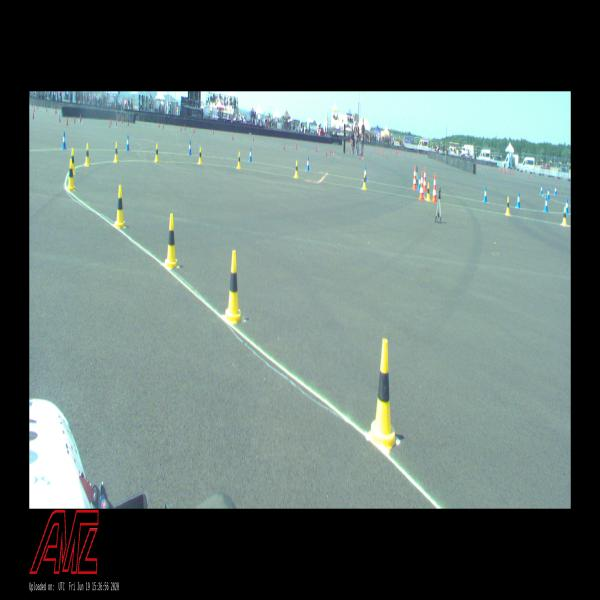blue_cone: (516, 192, 521, 208), (484, 186, 488, 203), (544, 196, 548, 212), (62, 132, 66, 148), (565, 199, 569, 214), (188, 141, 192, 155), (126, 136, 130, 150), (306, 156, 309, 171), (249, 148, 252, 162), (418, 176, 421, 190), (547, 188, 550, 199), (554, 185, 557, 196), (364, 167, 366, 180), (540, 184, 542, 194)
large_orange_cone: (431, 173, 438, 203), (418, 171, 424, 200), (412, 166, 417, 190), (423, 167, 427, 191)
yellow_cone: (367, 339, 398, 451), (224, 253, 245, 324), (164, 214, 178, 270), (114, 185, 126, 228), (66, 161, 76, 191), (84, 144, 90, 167), (70, 148, 75, 173), (113, 142, 119, 162), (154, 143, 160, 162), (562, 208, 567, 227), (506, 197, 510, 216), (426, 183, 430, 202), (294, 161, 298, 178), (237, 152, 241, 169), (198, 148, 202, 164), (362, 173, 366, 188)
